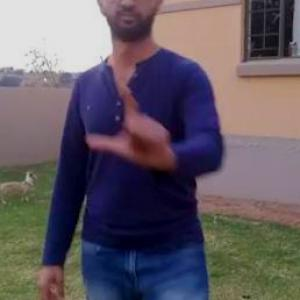land_hand: (82, 72, 174, 171)
